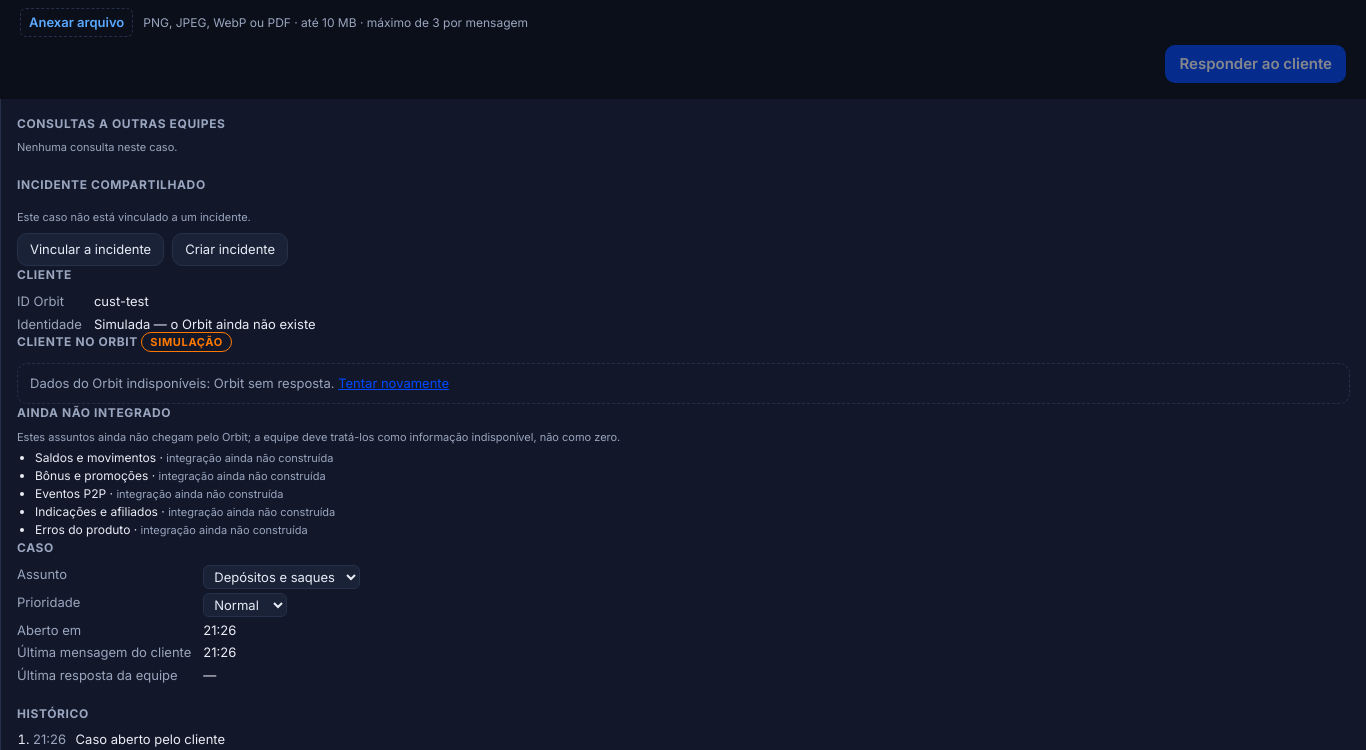
Scenario: StaffCaseView › shows the Orbit summary as unavailable with its reason and a retry, never as an assumed value (RULE-SUP-07)
This screenshot has width=1366, height=750.
(page scrolled)
Click the button "Tentar novamente": click(394, 384) top-left (338, 374), bottom-right (449, 393)
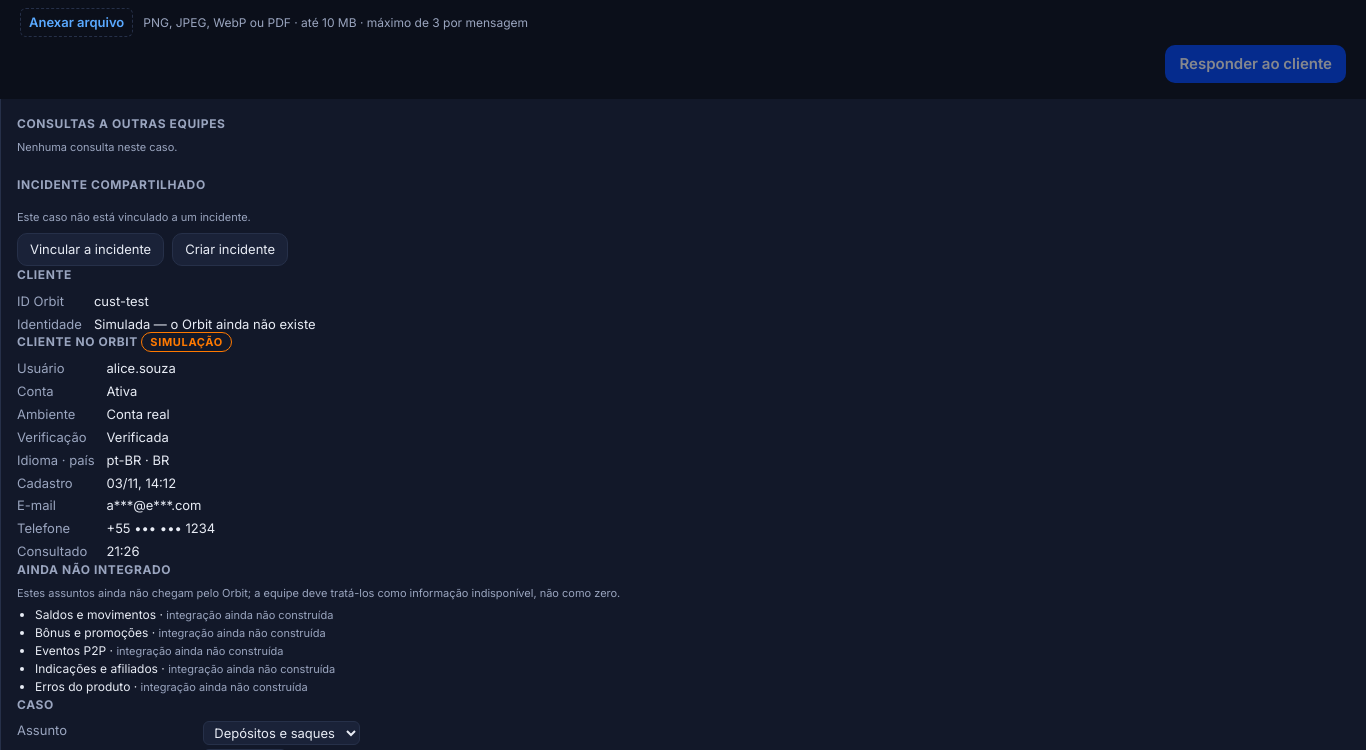
Expected: the element with test id "orbit-customer" shows "alice.souza", top-left (106, 360), bottom-right (176, 376)
